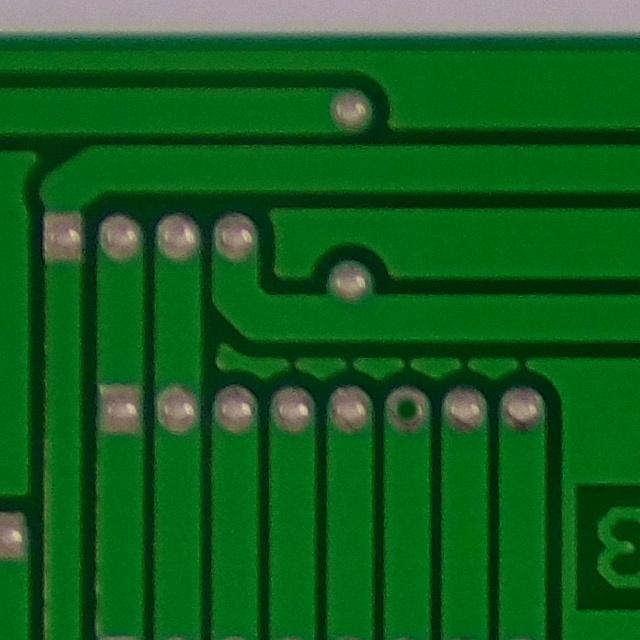missing_hole: (381, 377, 439, 442)
